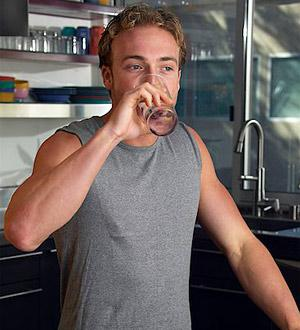person: (4, 1, 300, 329)
